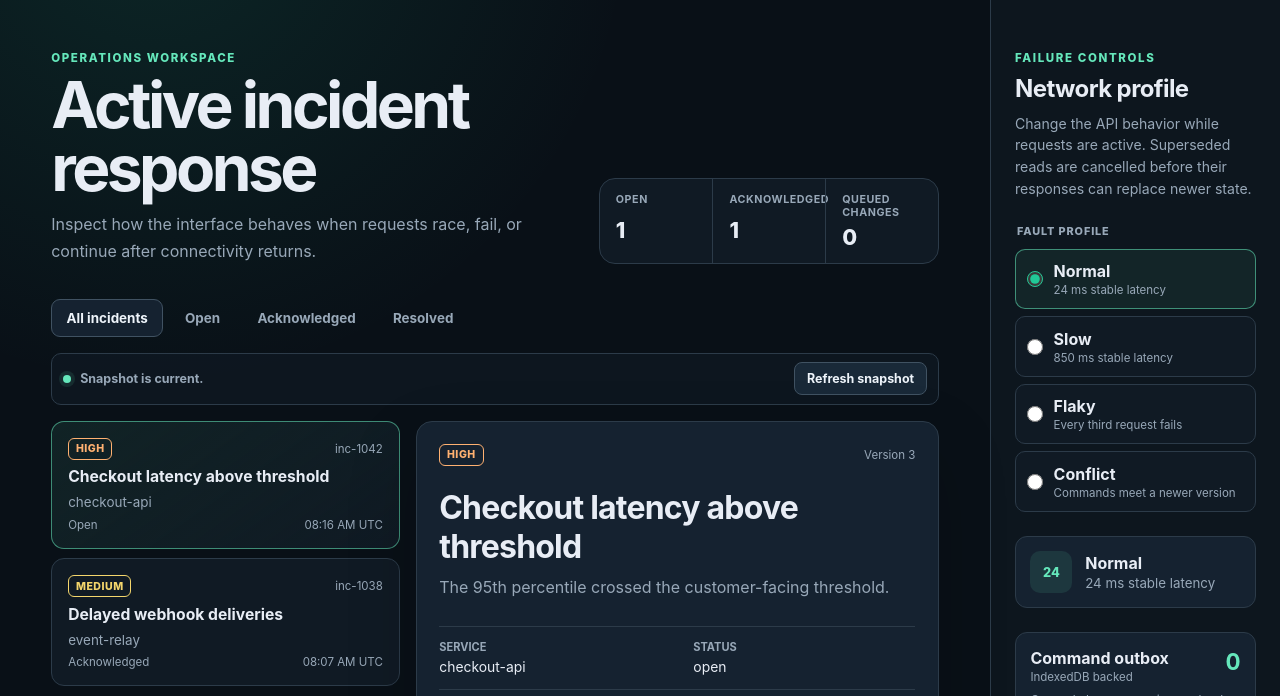
Test: IncidentConsole › updates details when an incident is selected
The width and height of the screenshot is (1280, 696).
What coordinates should you click on to do the following:
click the button "Delayed webhook deliveries"
I would click on:
 (226, 622)
Its box is [51,558,400,686].
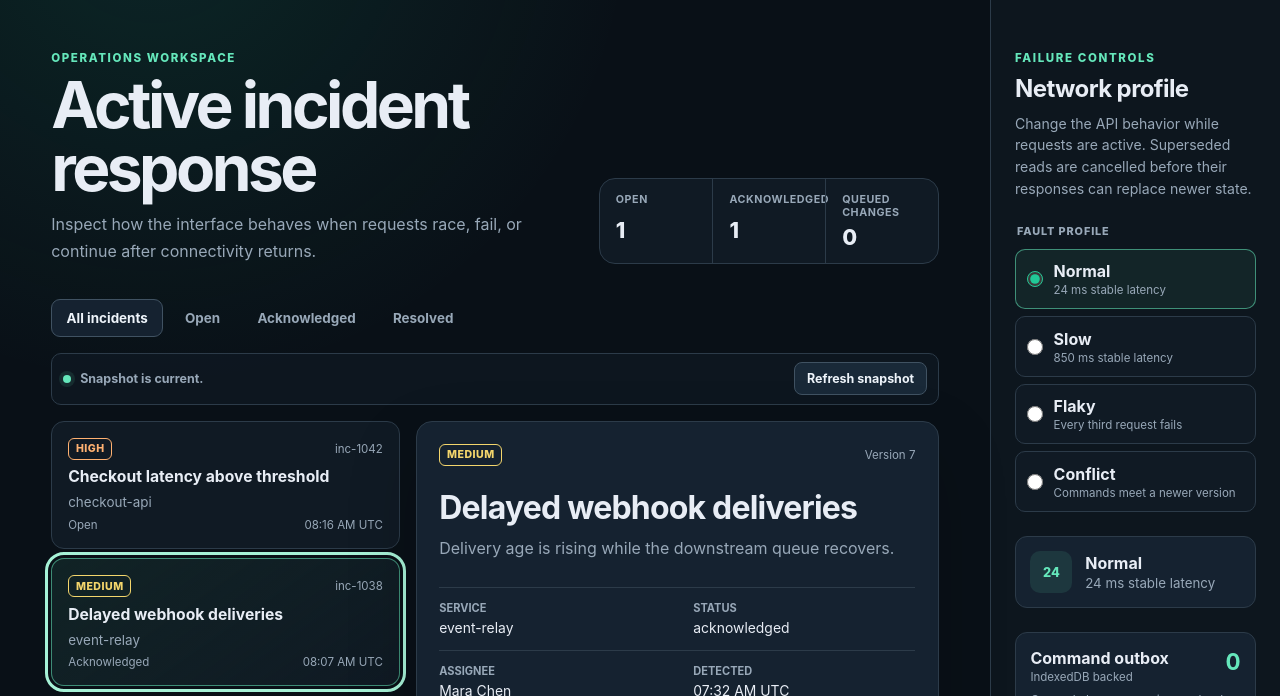
Check: the heading "Delayed webhook deliveries" is shown, box [439,488,915,527]
